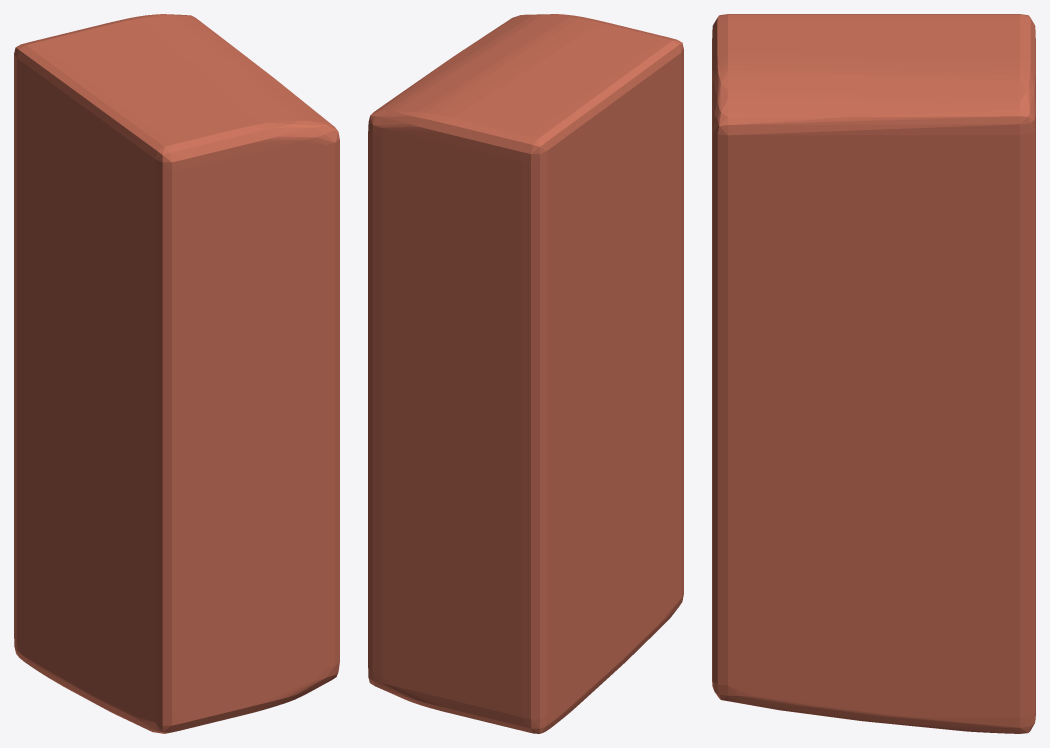
File: right_th_distal_pst_part_9.obj
3 renders of one model, left to right at view 1: azimuth 30°, elevation 25°; view 2: azimuth 150°, elevation 25°; view 3: azimuth 270°, elevation 25°, orthographic. The views are drawn at different scales.
Size of the model in its own units: 5.62 by 18.15 by 8.24.
